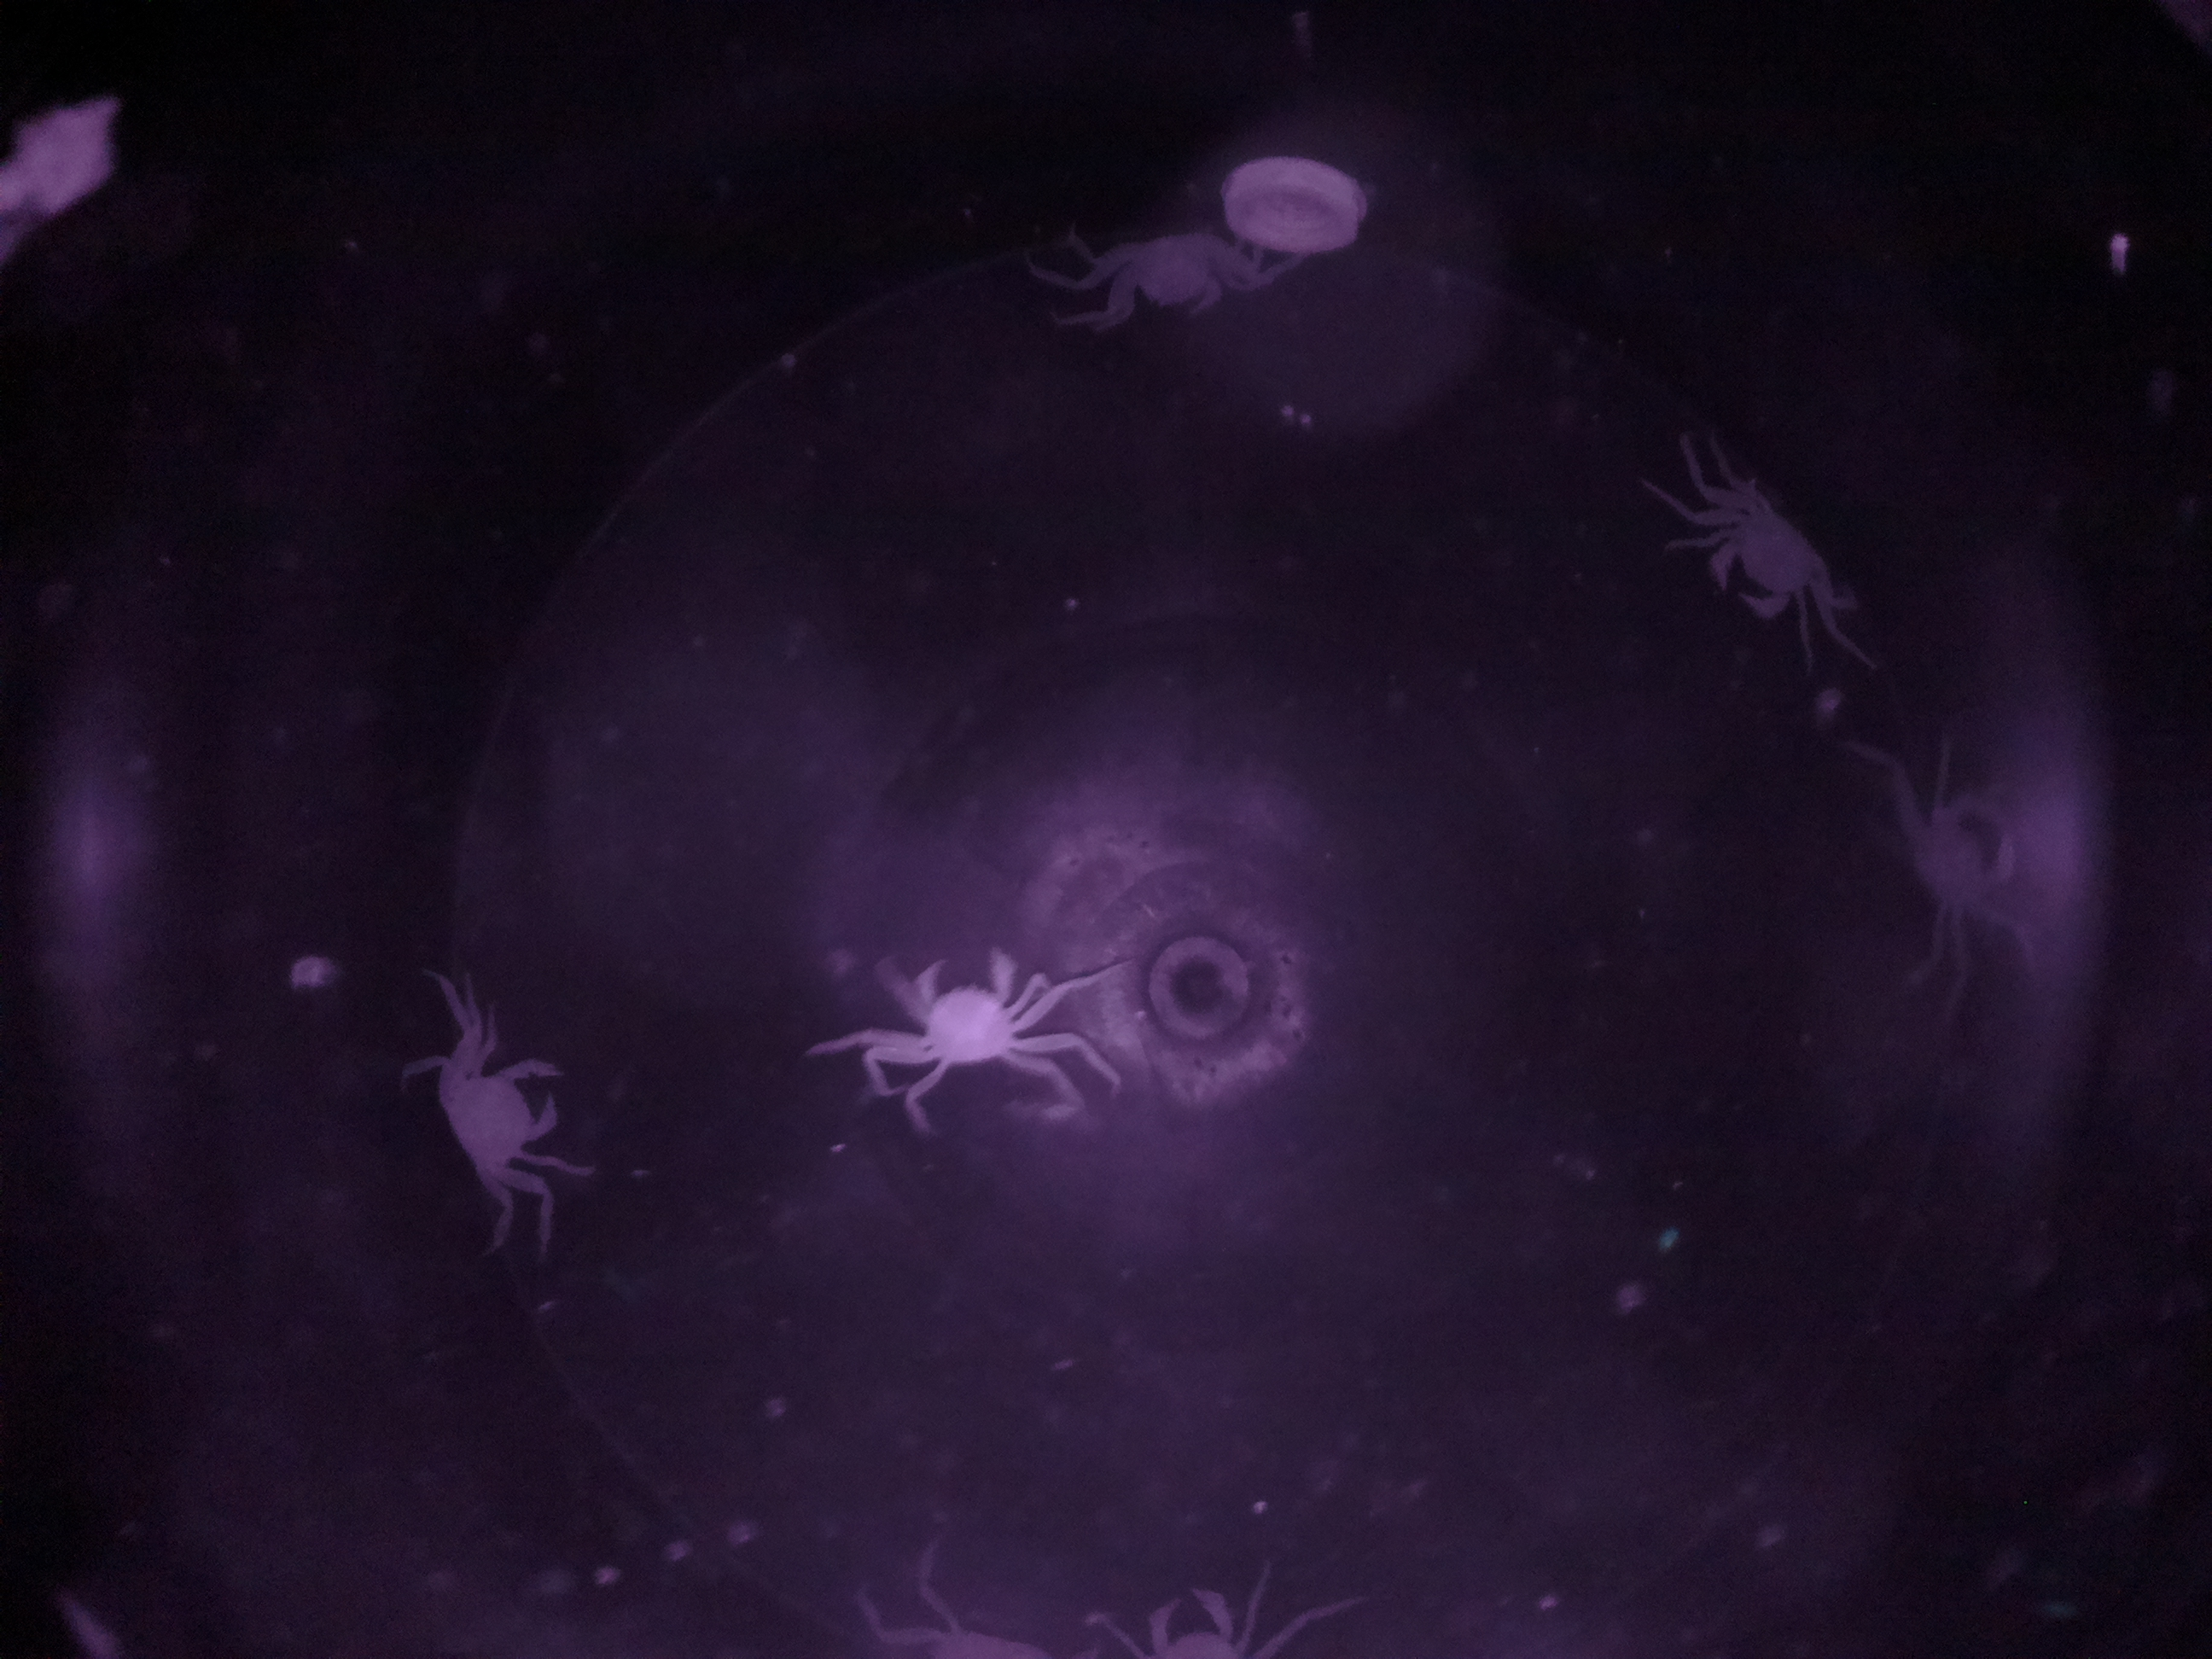Crab: (855, 922, 1049, 1122), (381, 1037, 611, 1202), (1681, 476, 1862, 640)
